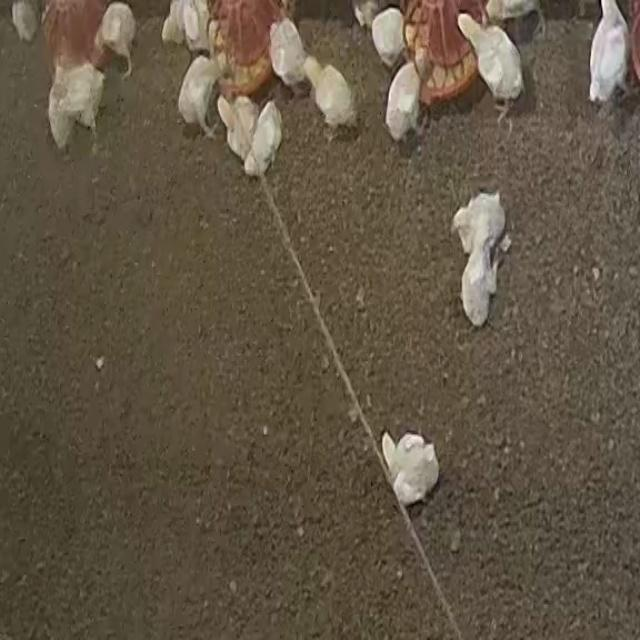chicken: (456, 10, 532, 121), (165, 52, 229, 129), (304, 55, 359, 144), (382, 50, 436, 138), (445, 187, 513, 254), (453, 243, 502, 331)
